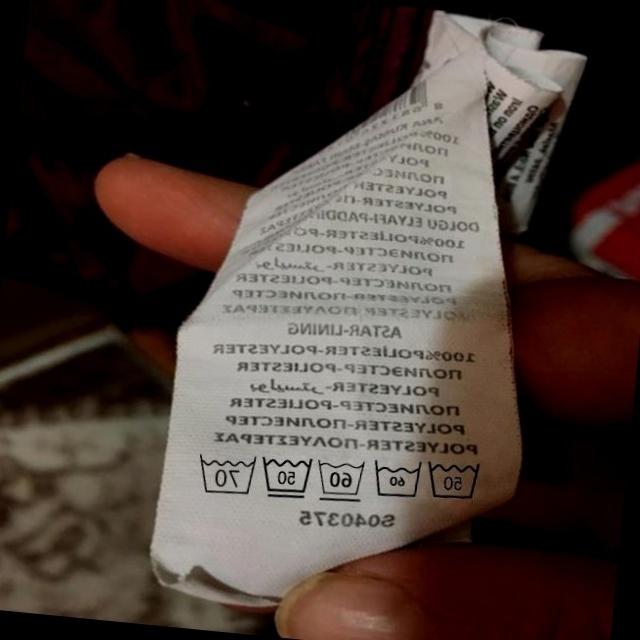50C: (421, 451, 487, 507), (255, 450, 316, 504)
60C: (310, 452, 368, 505), (367, 454, 425, 505)
70C: (190, 448, 258, 499)
